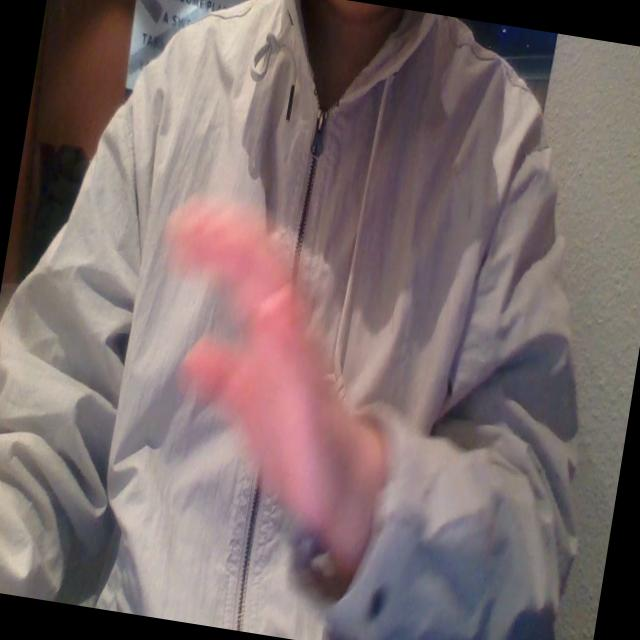hand: (134, 178, 388, 518)
